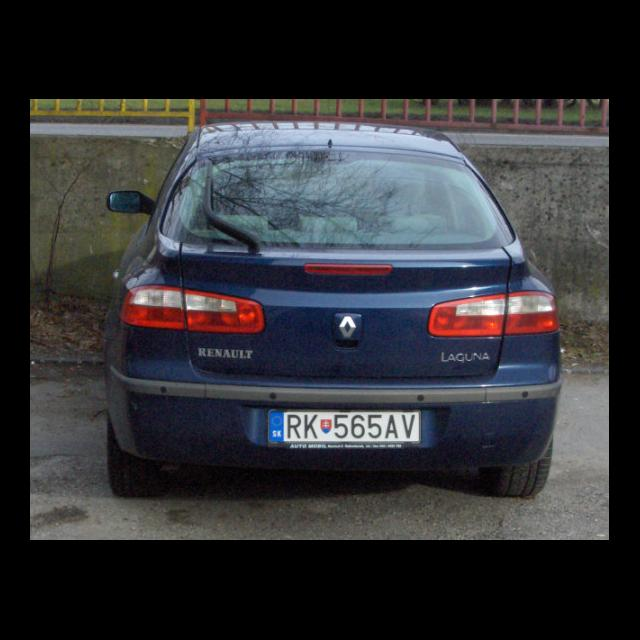Plate: (266, 406, 424, 446)
